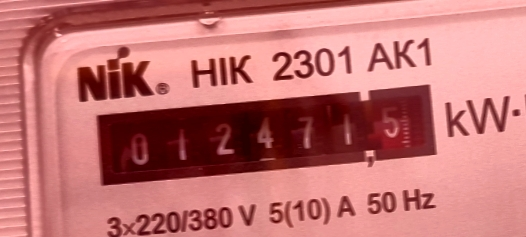0: (126, 130, 152, 168)
1: (175, 127, 189, 163), (340, 111, 353, 148)
2: (214, 121, 237, 158)
4: (255, 115, 276, 152)
5: (379, 103, 403, 142)
7: (294, 113, 317, 153)
screen: (86, 76, 449, 196)
